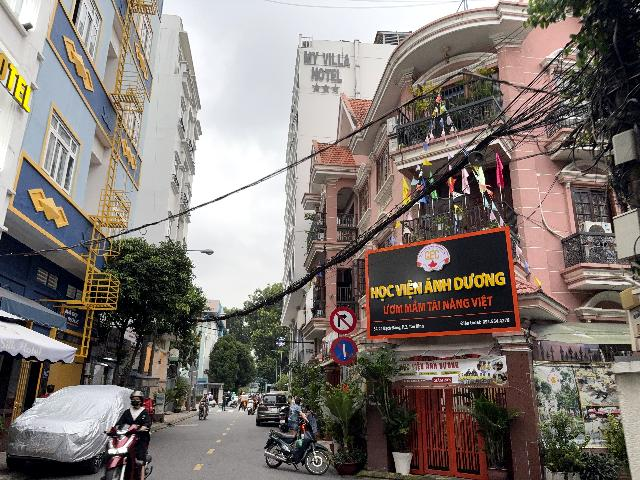cam-do-xe-ngay-le: (330, 336, 358, 365)
cam-re-phai: (330, 306, 357, 334)
